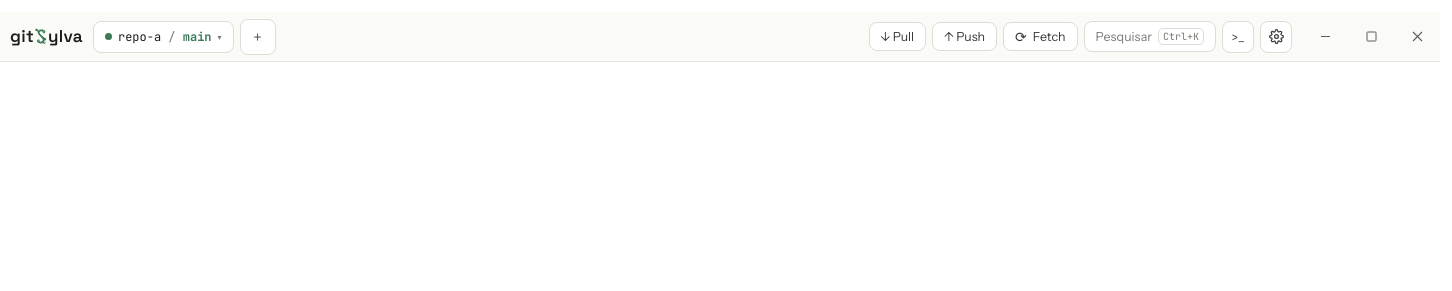
it: Titlebar repo dropdown — pinned (FIXADOS) › shows a ★ next to an open repo that is also pinned
Step 1. Click the button "repo-a / main ▾" → (163, 36), box [93,20,234,52]
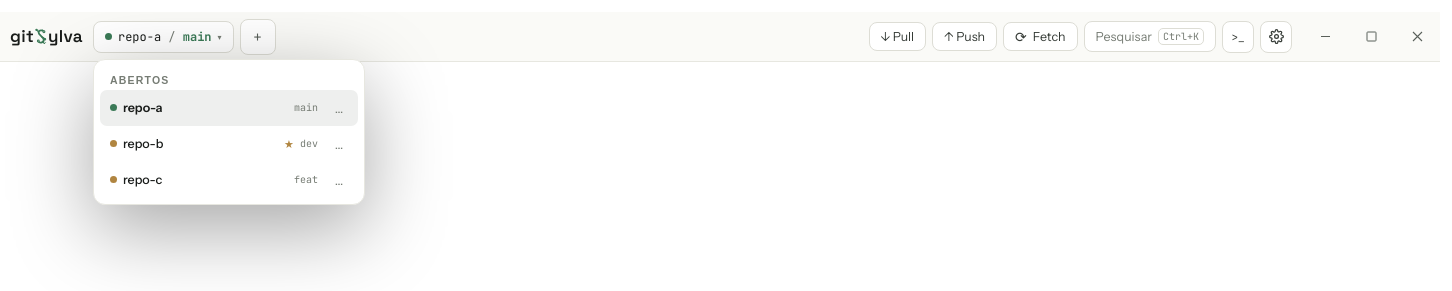
Expected: the text titled "Fixado" is shown, [284,136,294,150]
